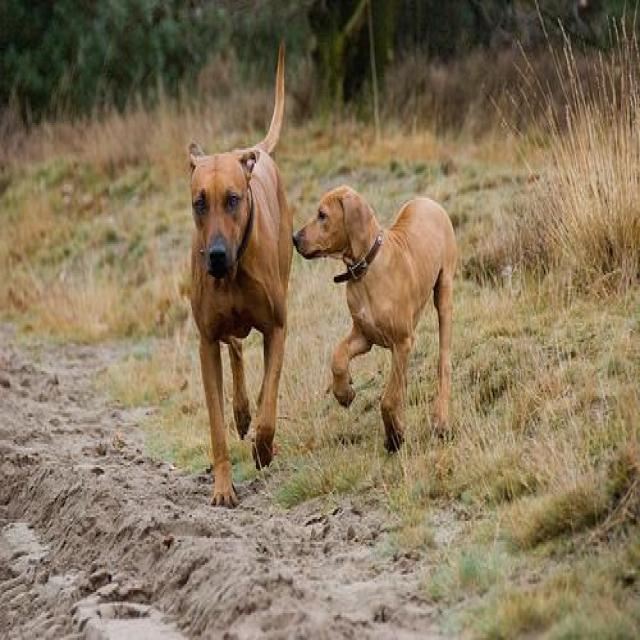rhodesian_ridgeback: (186, 37, 296, 511), (296, 186, 457, 454)
